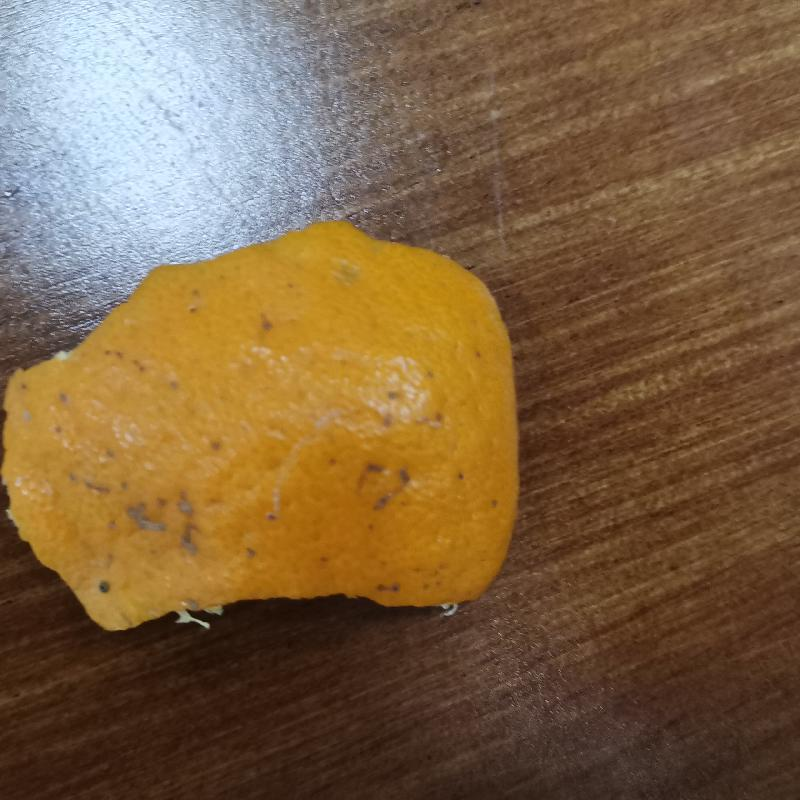orange: (4, 221, 521, 628)
